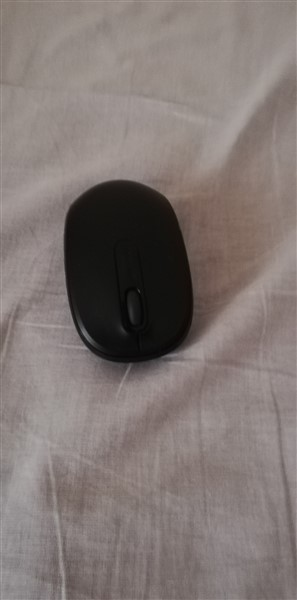mouse: (60, 174, 196, 370)
